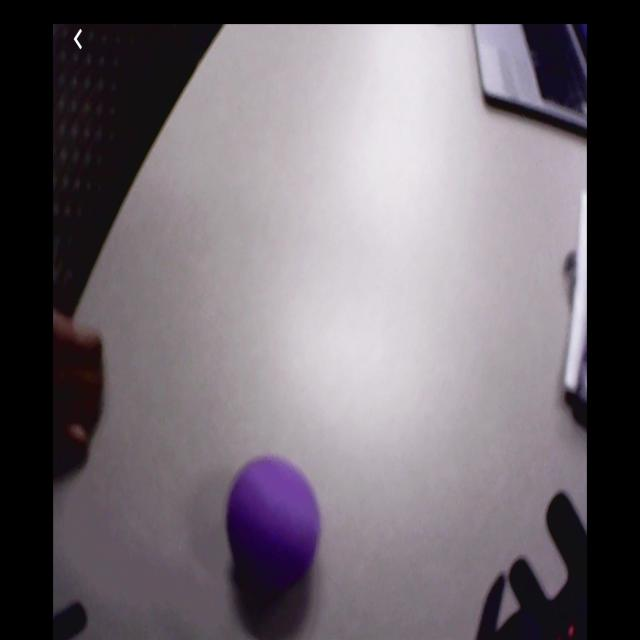ball: (228, 457, 322, 585)
